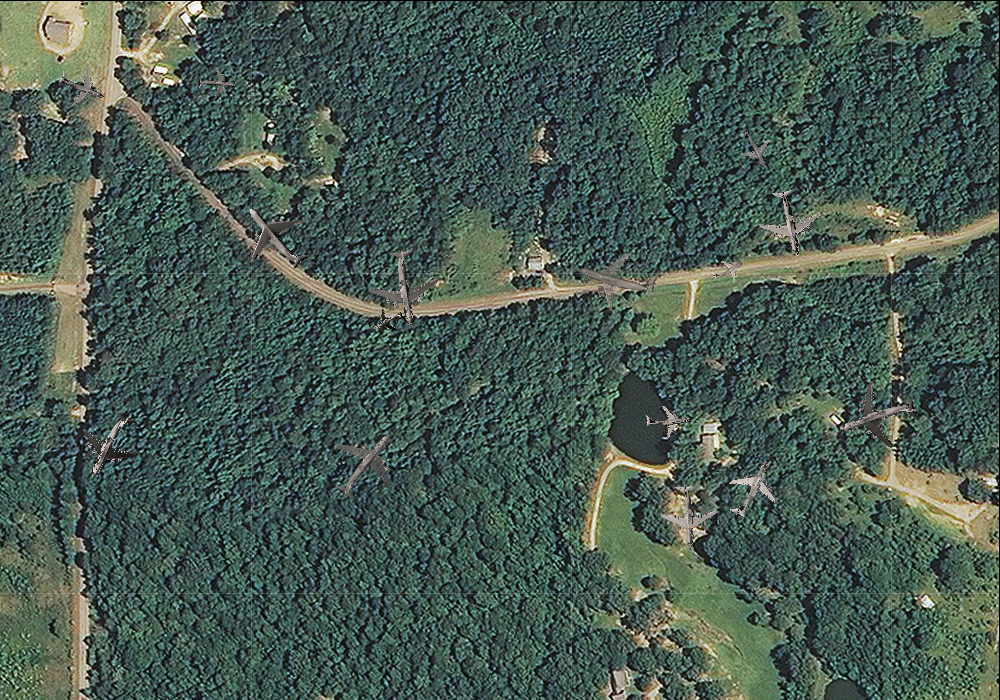plane: (313, 411, 419, 518), (224, 184, 327, 288), (828, 369, 929, 467), (568, 231, 666, 324), (63, 399, 156, 493), (363, 243, 448, 332), (713, 448, 791, 528), (751, 183, 827, 262), (656, 483, 719, 549), (50, 56, 112, 116), (728, 122, 780, 176), (643, 398, 691, 442), (706, 247, 750, 291), (366, 299, 410, 342), (196, 64, 237, 103)
